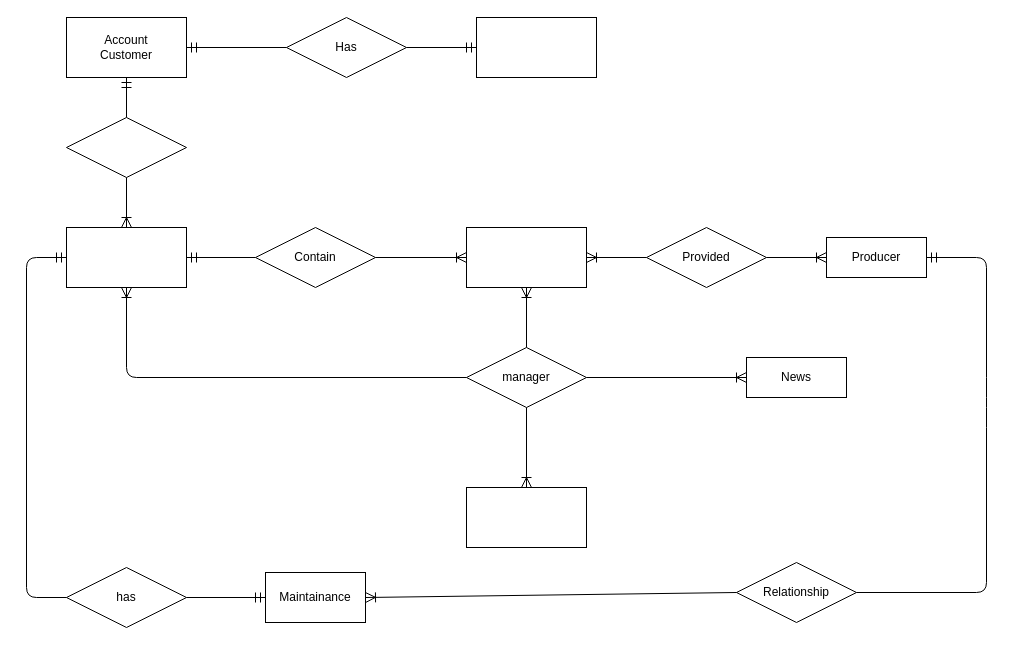
The diagram is 1014 pixels wide and 645 high, and some of its shapes have lost their labels. The shapes that lost their labels are listed below. From the top down, each one's centre as x and y in pixels, then its label:
At point (536, 47): "Customer Information".
At point (126, 147): "Add".
At point (126, 257): "Cart".
At point (526, 257): "Car".
At point (526, 517): "Account Admin".
